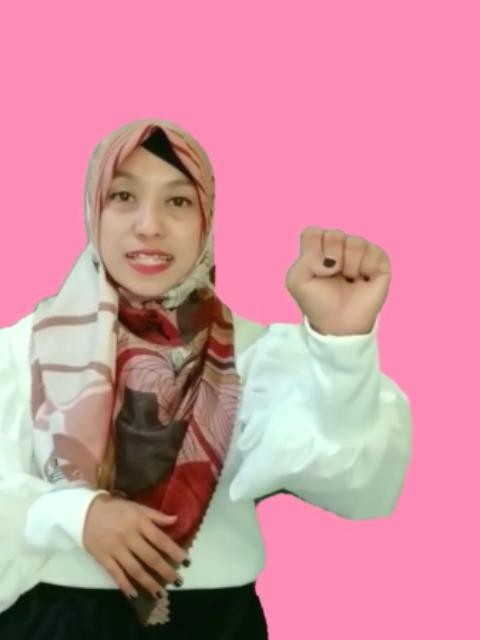S: (283, 224, 391, 328)
